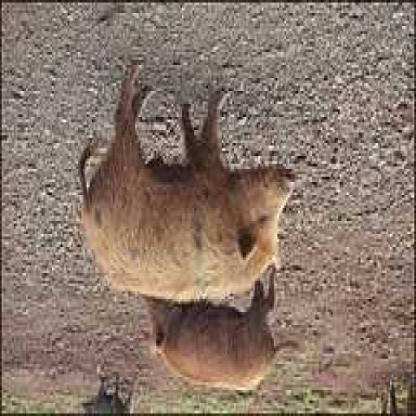boar: (83, 82, 326, 319), (132, 276, 296, 410)
